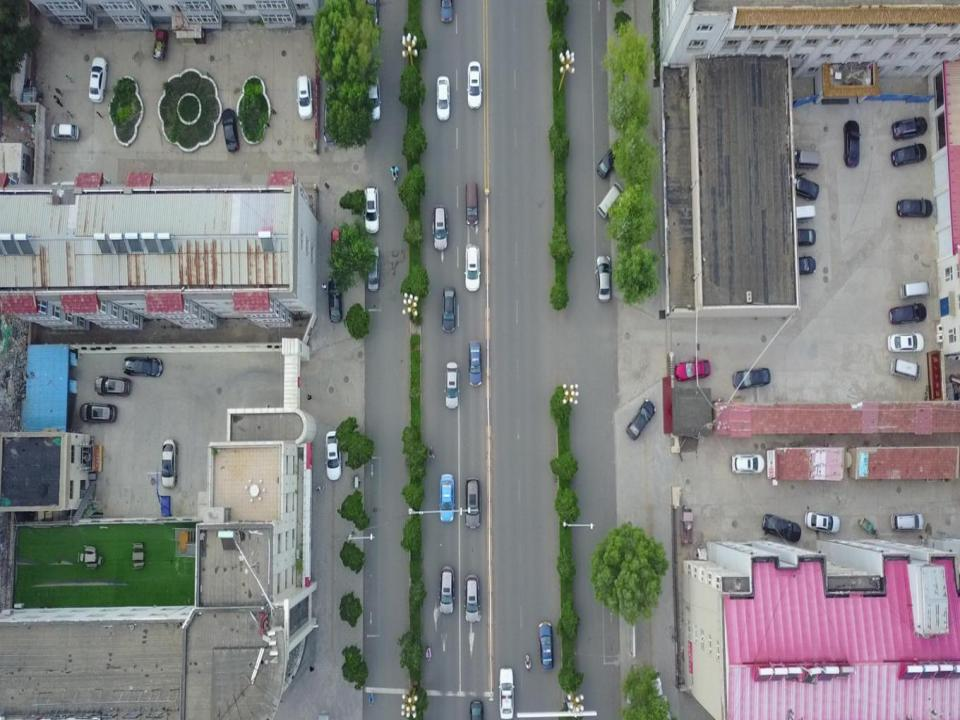car: (624, 396, 657, 444), (762, 511, 802, 544), (156, 436, 180, 490), (322, 426, 344, 484), (218, 106, 243, 156), (86, 54, 110, 106), (592, 251, 615, 303), (362, 183, 383, 238), (119, 355, 165, 380), (77, 399, 119, 426), (364, 74, 385, 126), (886, 328, 925, 356), (92, 374, 132, 401), (890, 142, 928, 170), (294, 74, 316, 122), (463, 241, 483, 293), (888, 300, 928, 326), (805, 508, 841, 536), (326, 276, 346, 326), (891, 115, 929, 141), (675, 356, 711, 383), (463, 572, 482, 623), (843, 117, 862, 168), (430, 204, 450, 252), (596, 146, 623, 181), (466, 58, 484, 110), (443, 360, 461, 412), (730, 450, 766, 476), (732, 367, 771, 391), (498, 665, 515, 720), (466, 338, 484, 389), (896, 196, 934, 220), (537, 621, 555, 671), (466, 476, 482, 532), (788, 175, 821, 202), (438, 564, 455, 616), (365, 244, 382, 294), (438, 472, 454, 525), (463, 179, 480, 228), (440, 283, 456, 334), (46, 121, 82, 143), (436, 74, 451, 122), (785, 227, 818, 247), (789, 254, 818, 275), (439, 0, 455, 29), (469, 698, 485, 720)
truck: (152, 29, 168, 62)
van: (595, 180, 624, 220), (889, 510, 925, 535), (890, 356, 923, 383), (898, 279, 932, 302), (789, 148, 822, 171), (786, 202, 818, 225)
